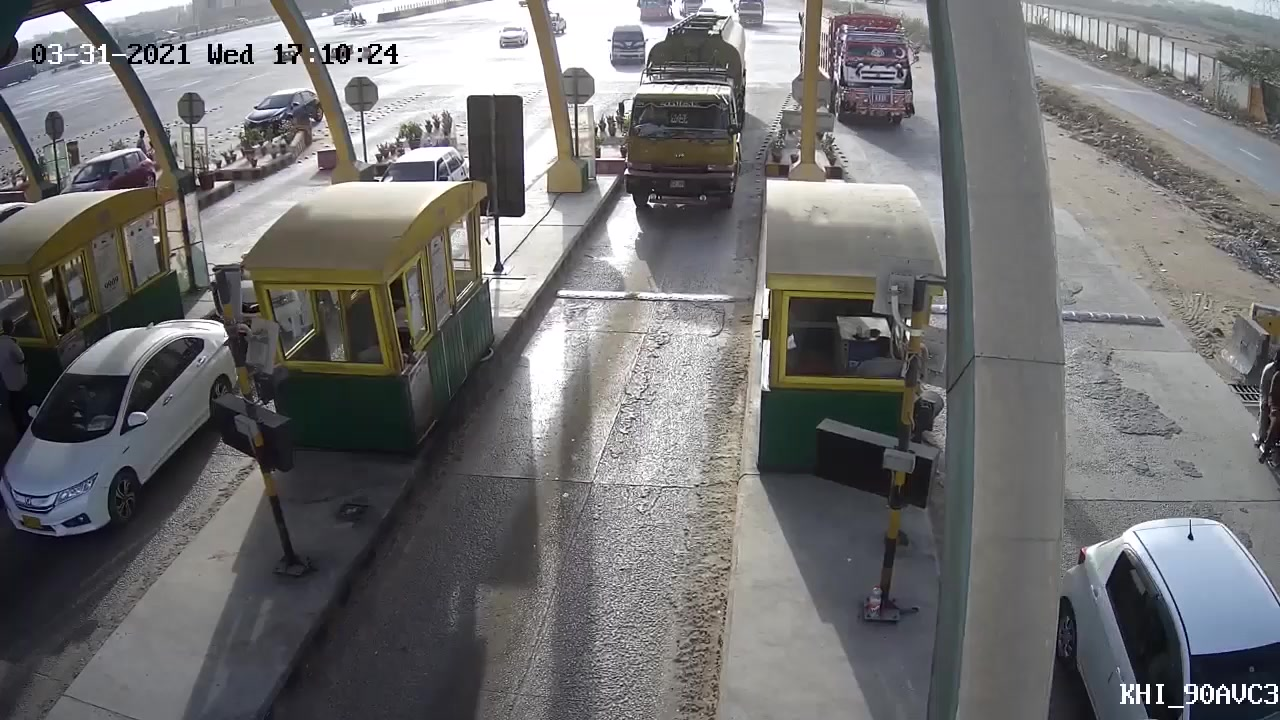F6: (611, 1, 760, 234)
